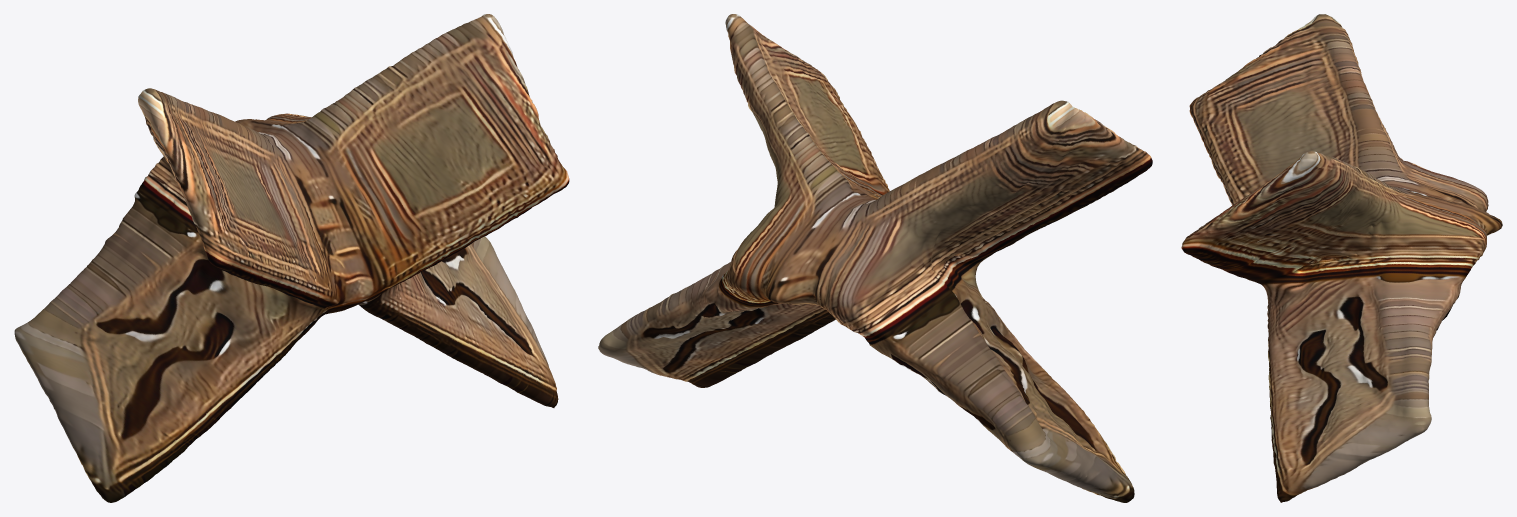
The model's file is kfl-2260.glb.
The picture shows the model from 3 angles, left to right: view 1: azimuth 30°, elevation 25°; view 2: azimuth 150°, elevation 25°; view 3: azimuth 270°, elevation 25°; orthographic projection. The views are drawn at different scales.
Visible parts, largest first — view 1: kfl-2260; view 2: kfl-2260; view 3: kfl-2260.
Boxes of the visible parts, left/top/right/bottom form: kfl-2260: left=14, top=14, right=569, bottom=502; kfl-2260: left=598, top=14, right=1152, bottom=502; kfl-2260: left=1181, top=14, right=1502, bottom=502.
Bounding box in the file's own units: 0.9931 × 0.8086 × 0.7098.
Materials: 1 (1 with a texture image).
